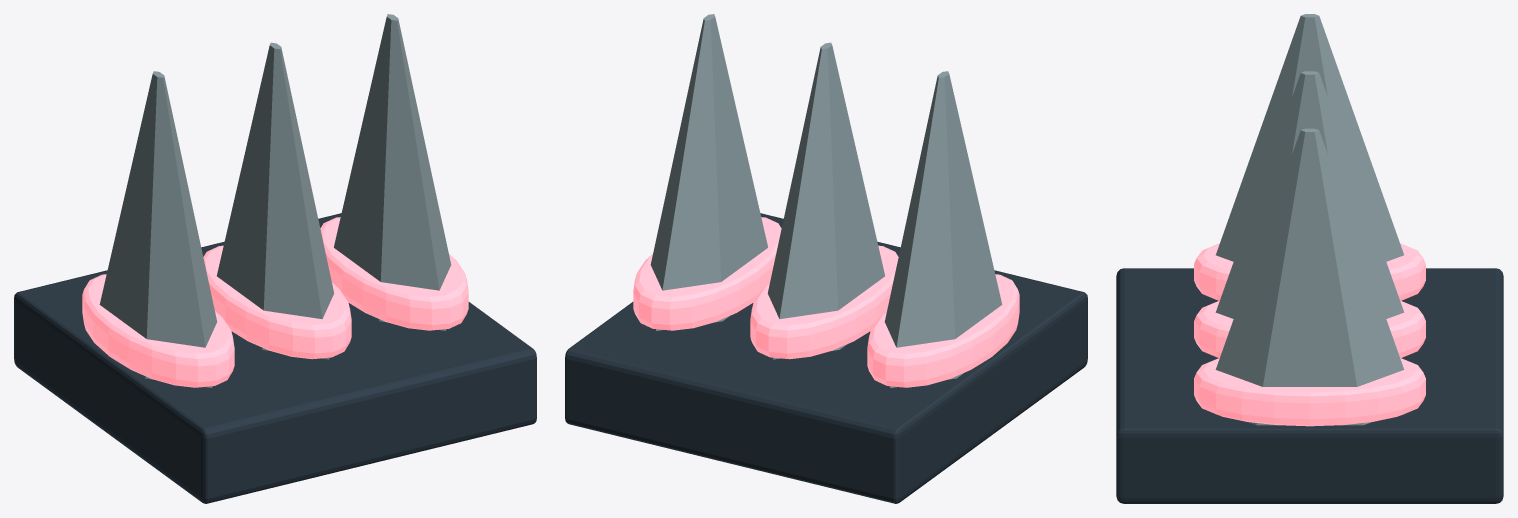
Rendered from SM_Electrodes.fbx.
The picture shows the model from 3 angles, left to right: view 1: azimuth 30°, elevation 25°; view 2: azimuth 150°, elevation 25°; view 3: azimuth 270°, elevation 25°; orthographic projection.
Visible parts, largest first — view 1: SM_Electrodes; view 2: SM_Electrodes; view 3: SM_Electrodes.
Part boxes in pixels (x1,y1,x2,y2): SM_Electrodes: [14, 14, 536, 503]; SM_Electrodes: [565, 14, 1087, 503]; SM_Electrodes: [1116, 14, 1503, 503].
Size of the model in its own units: 100 by 100 by 100.
